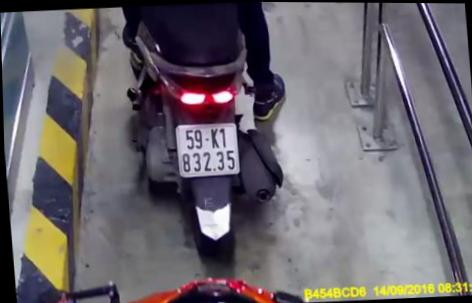LP: (174, 120, 241, 178)
